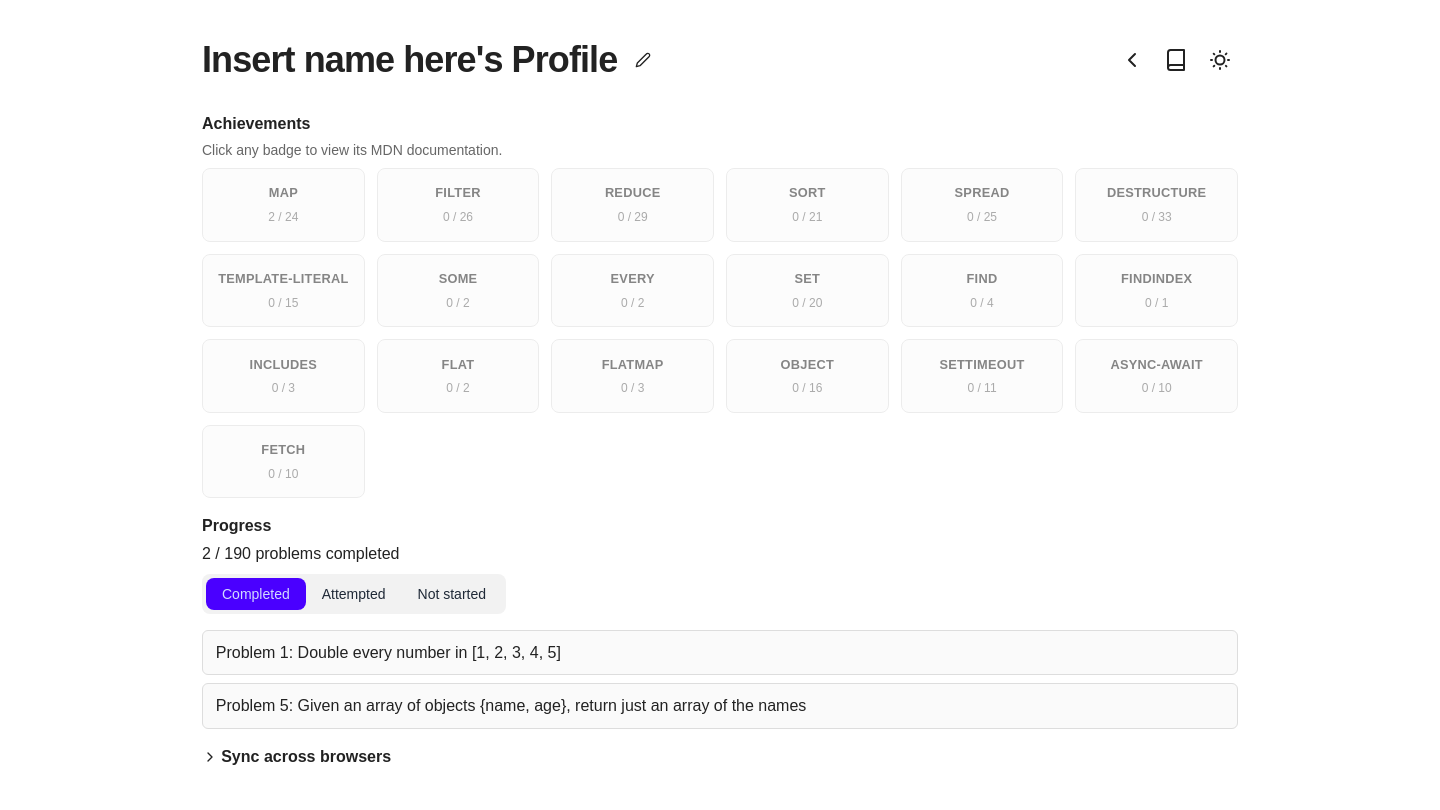
Scenario: ProfilePanel › editing the display name persists and updates the heading
Click the button named "Edit display name" at (643, 60), box top-left (625, 46), bottom-right (661, 74)
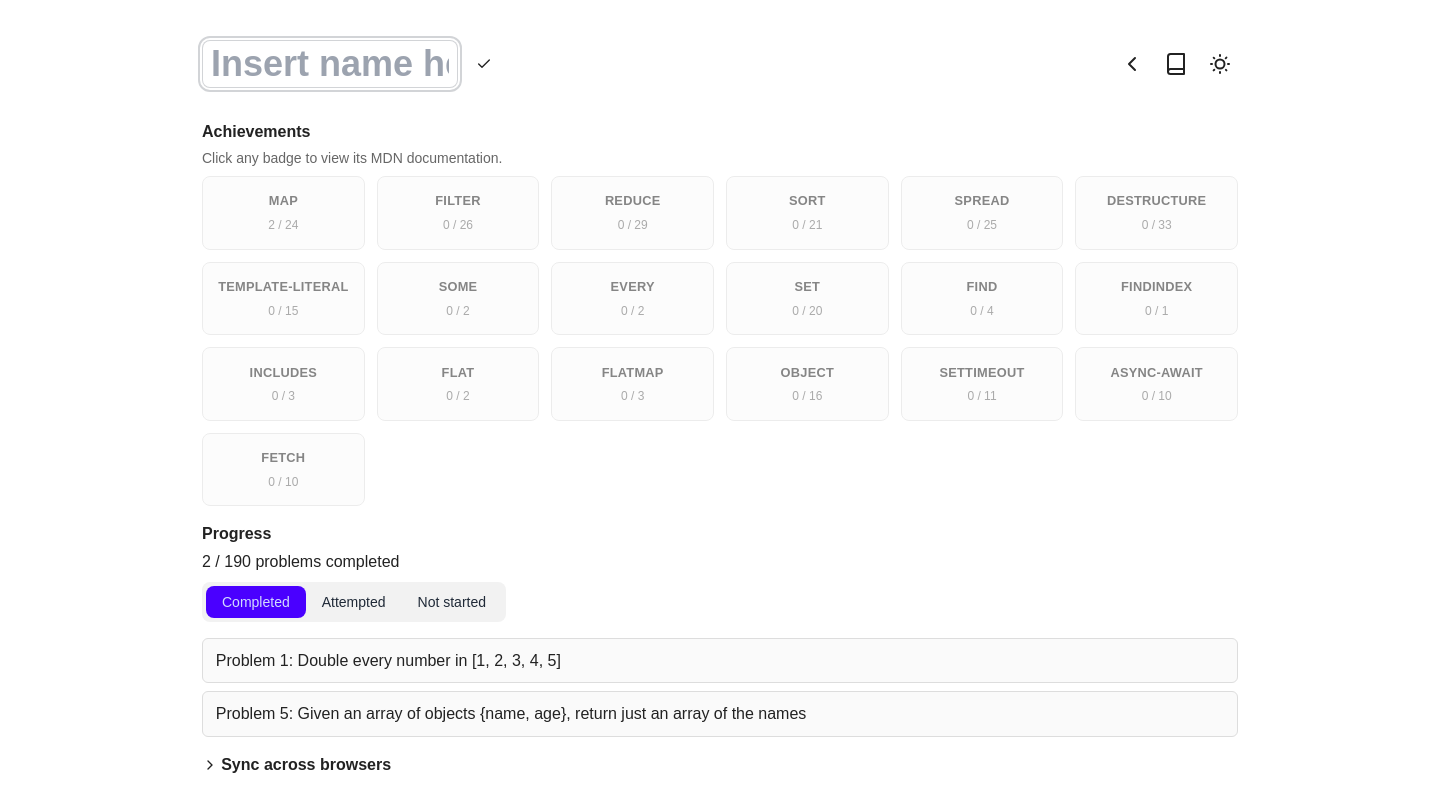
Result: the field with placeholder "Insert name here" is shown
Type "Sean" into the field with placeholder "Insert name here" at (330, 64), box top-left (202, 40), bottom-right (458, 88)
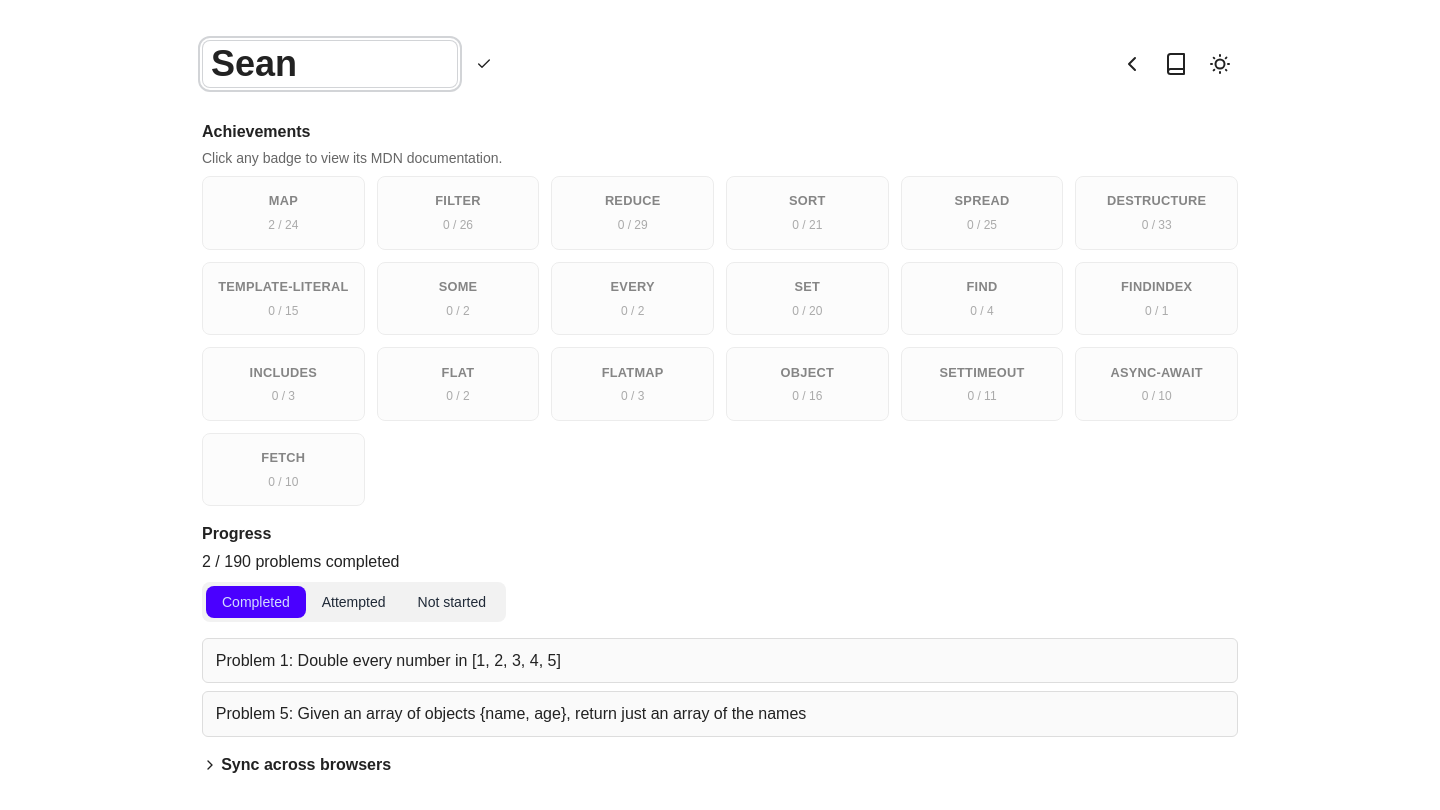
Click the button named "Edit display name" at (484, 64), box top-left (466, 50), bottom-right (502, 78)
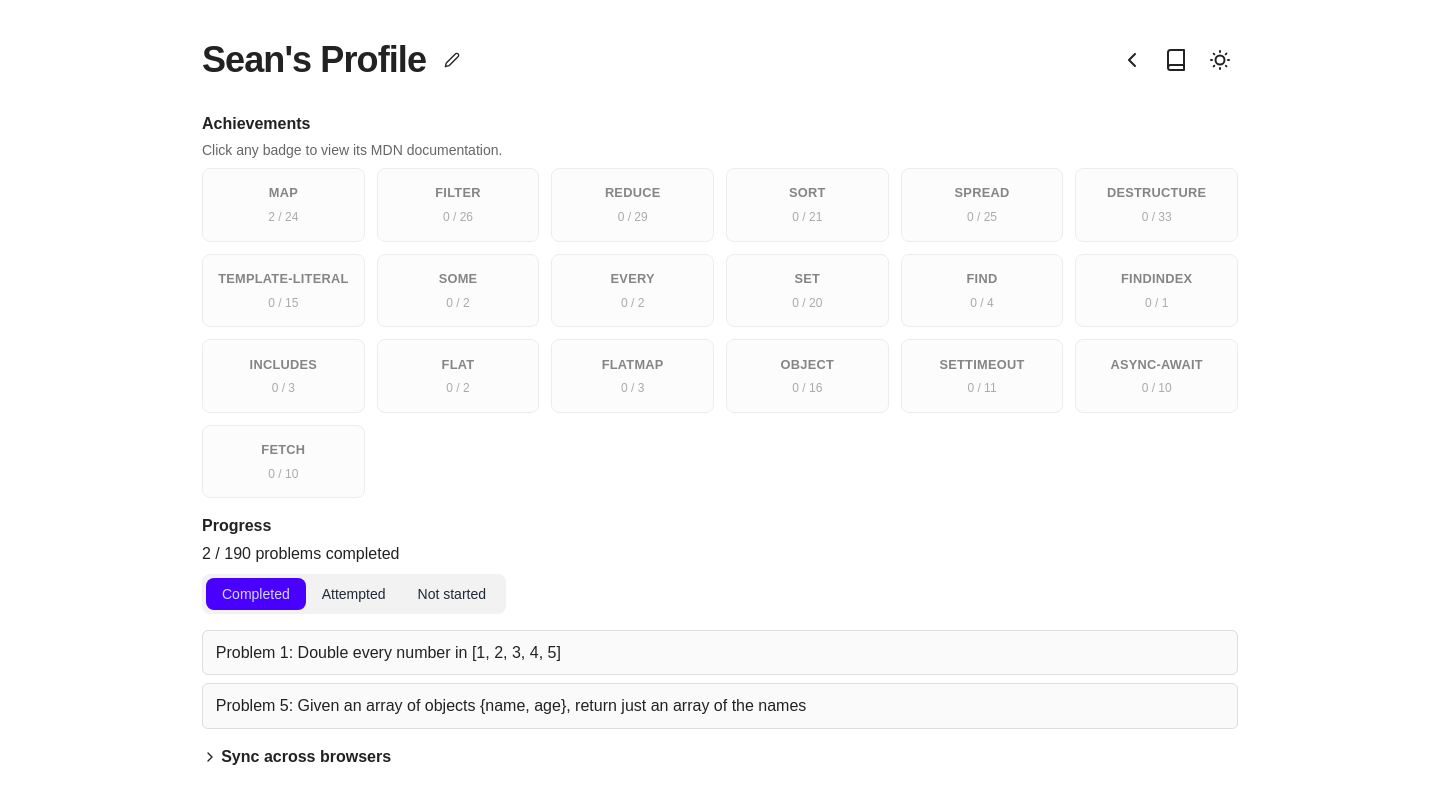
Result: the heading "Sean's Profile" is shown at top-left (202, 40), bottom-right (426, 80)
